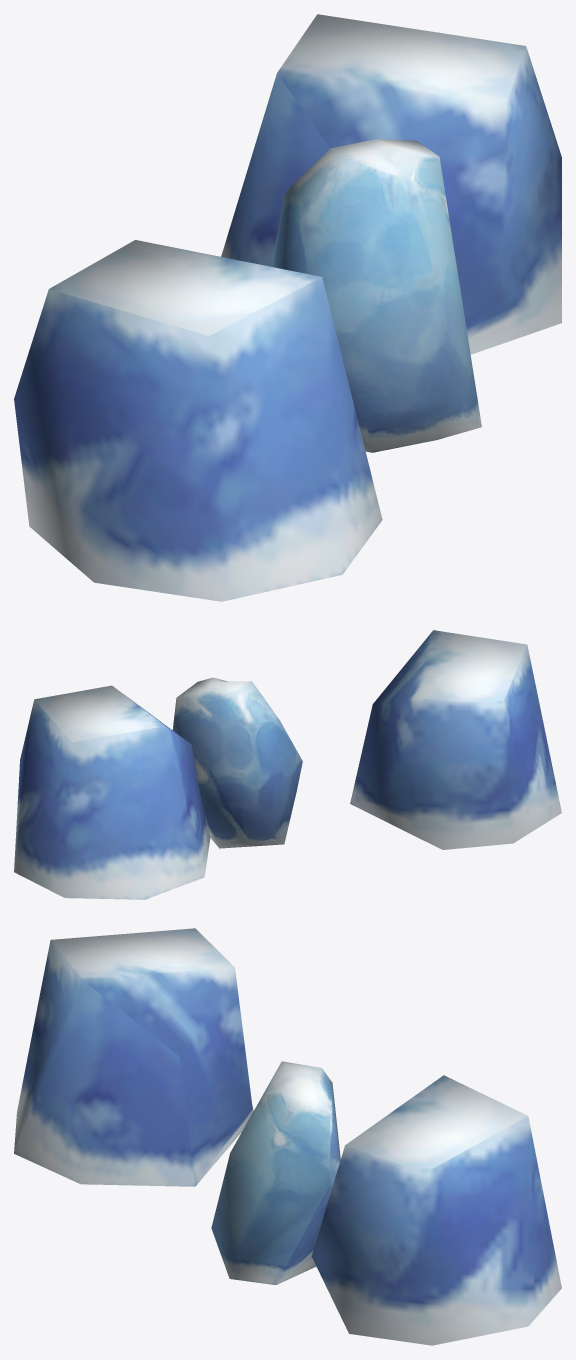
The model's file is SM_stoneB_02.fbx.
The picture shows the model from 3 angles, top to bottom: view 1: azimuth 30°, elevation 25°; view 2: azimuth 150°, elevation 25°; view 3: azimuth 270°, elevation 25°; orthographic projection. The views are drawn at different scales.
Parts seen in each view (by area): view 1: SM_stoneB_02; view 2: SM_stoneB_02; view 3: SM_stoneB_02.
Boxes of the visible parts, <box> form: SM_stoneB_02: <box>14,14,561,601</box>; SM_stoneB_02: <box>14,630,561,899</box>; SM_stoneB_02: <box>14,928,561,1345</box>.
Size of the model in its own units: 3.57 by 1.45 by 3.4.
